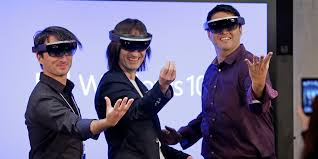hololens: (108, 28, 151, 55), (30, 39, 77, 60), (203, 14, 246, 35)
